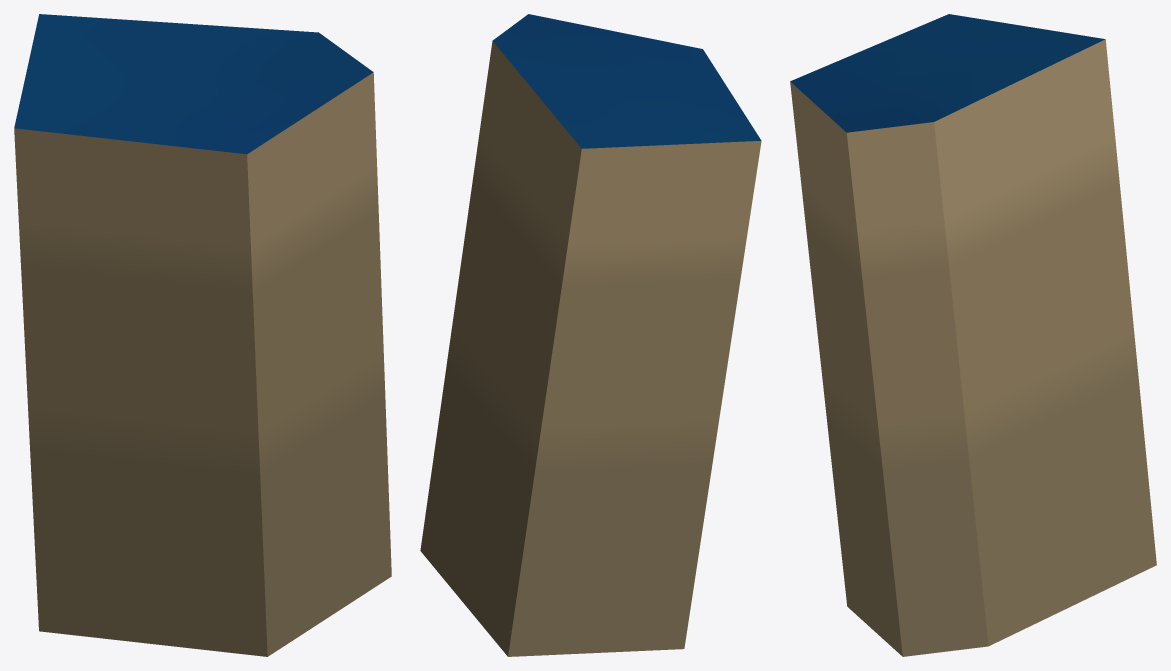
Rendered from 0605_Nauru.glb.
3 renders of one model, left to right at view 1: azimuth 30°, elevation 25°; view 2: azimuth 150°, elevation 25°; view 3: azimuth 270°, elevation 25°, orthographic. The views are drawn at different scales.
Visible parts, largest first — view 1: part_0; view 2: part_0; view 3: part_0.
Boxes of the visible parts, <box> form: part_0: <box>14,14,391,656</box>; part_0: <box>420,14,761,656</box>; part_0: <box>790,14,1156,656</box>.
Bounding box in the file's own units: 0.1361 × 0.2087 × 0.1311.
1 material, 1 textured.
